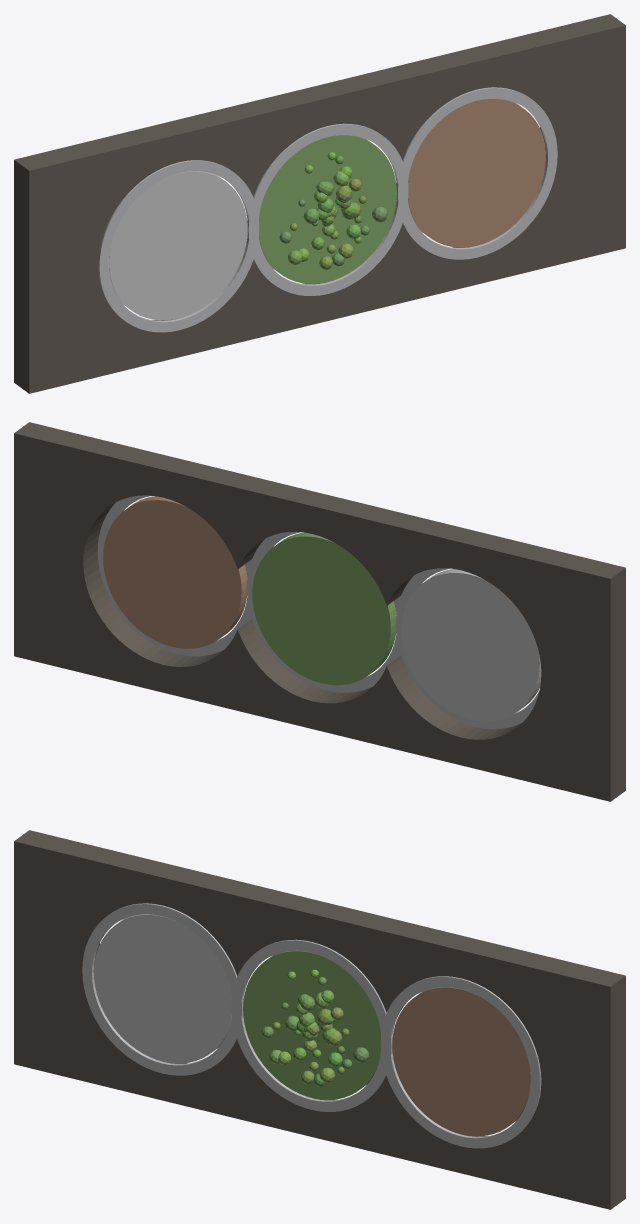
Rendered from appoloc-board-3.glb.
3 renders of one model, top to bottom at view 1: azimuth 30°, elevation 25°; view 2: azimuth 150°, elevation 25°; view 3: azimuth 330°, elevation 25°, orthographic.
Parts seen in each view (by area): view 1: board, app_mirror, app_leather, app_moss, ring_0, ring_2, ring_1; view 2: board, app_moss, app_leather, app_mirror, ring_1, ring_2, ring_0; view 3: board, app_leather, app_mirror, app_moss, ring_0, ring_2, ring_1.
Boxes of the visible parts, bbox=[...] form: board: bbox=[14, 14, 625, 393]; app_mirror: bbox=[109, 171, 247, 320]; app_leather: bbox=[408, 98, 545, 247]; app_moss: bbox=[259, 134, 396, 283]; ring_0: bbox=[98, 160, 259, 332]; ring_2: bbox=[396, 87, 557, 259]; ring_1: bbox=[247, 123, 408, 295]; board: bbox=[14, 422, 625, 801]; app_moss: bbox=[252, 532, 396, 685]; app_leather: bbox=[103, 496, 247, 648]; app_mirror: bbox=[401, 569, 541, 721]; ring_1: bbox=[247, 531, 404, 692]; ring_2: bbox=[97, 495, 254, 656]; ring_0: bbox=[396, 568, 539, 729]; board: bbox=[14, 830, 625, 1209]; app_leather: bbox=[392, 987, 530, 1136]; app_mirror: bbox=[94, 914, 231, 1063]; app_moss: bbox=[243, 950, 380, 1099]; ring_0: bbox=[82, 903, 243, 1075]; ring_2: bbox=[380, 976, 541, 1148]; ring_1: bbox=[231, 939, 392, 1111].
Size of the model in its own units: 0.56 by 0.2 by 0.0346.
